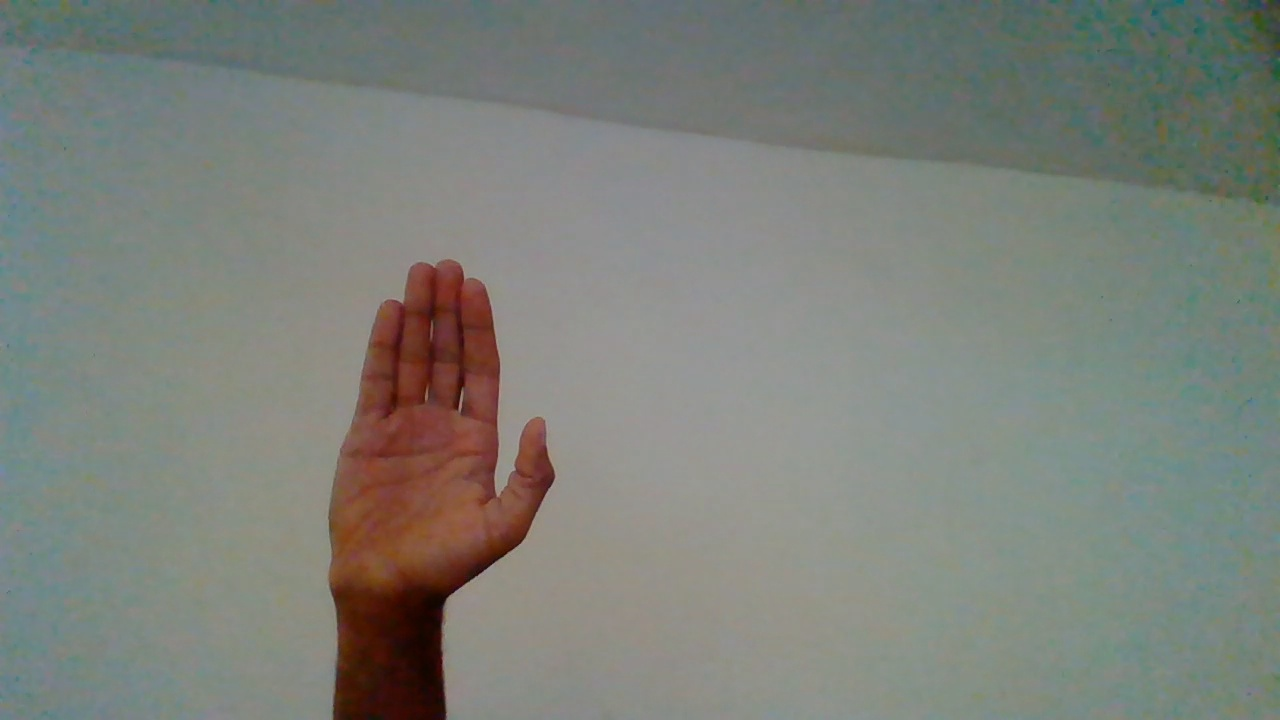ha: (325, 258, 567, 700)
